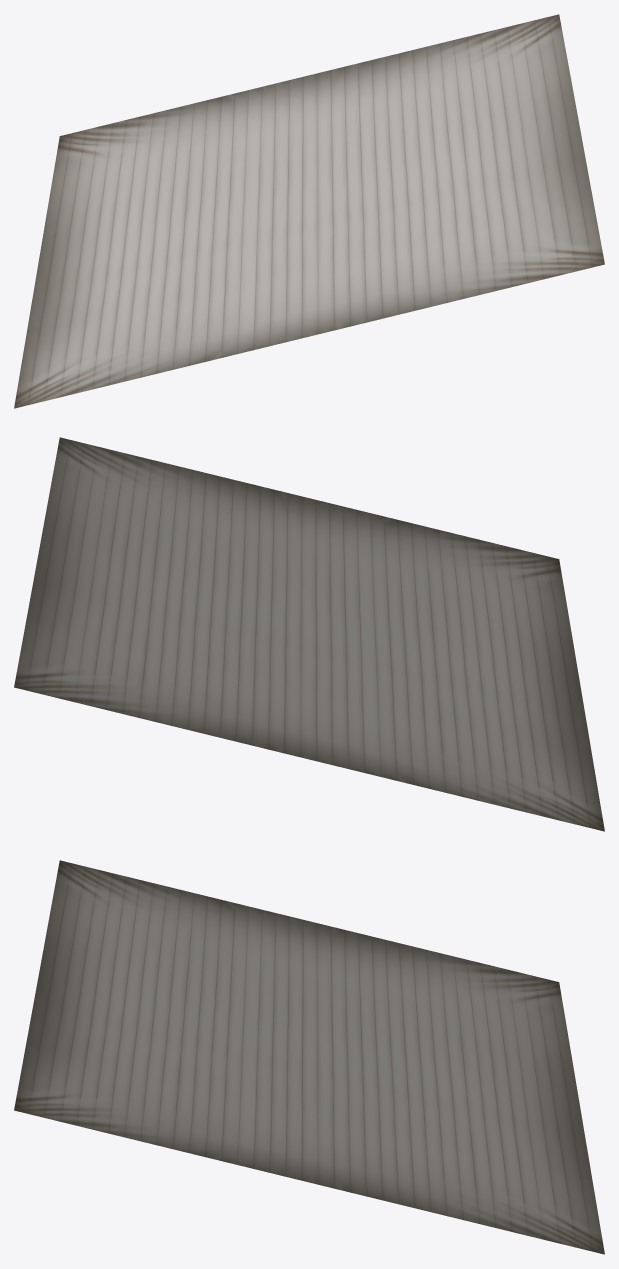
The model's file is SquareSail.fbx.
3 views of the same model, one above another, from view 1: azimuth 30°, elevation 25°; view 2: azimuth 150°, elevation 25°; view 3: azimuth 330°, elevation 25° (orthographic).
Parts seen in each view (by area): view 1: Sail; view 2: Sail; view 3: Sail.
Part boxes in pixels (x1=…): Sail: x1=14, y1=14, x2=604, y2=408; Sail: x1=14, y1=437, x2=604, y2=831; Sail: x1=14, y1=860, x2=604, y2=1254.
Size of the model in its own units: 2576 by 1088 by 4.77e-05.
